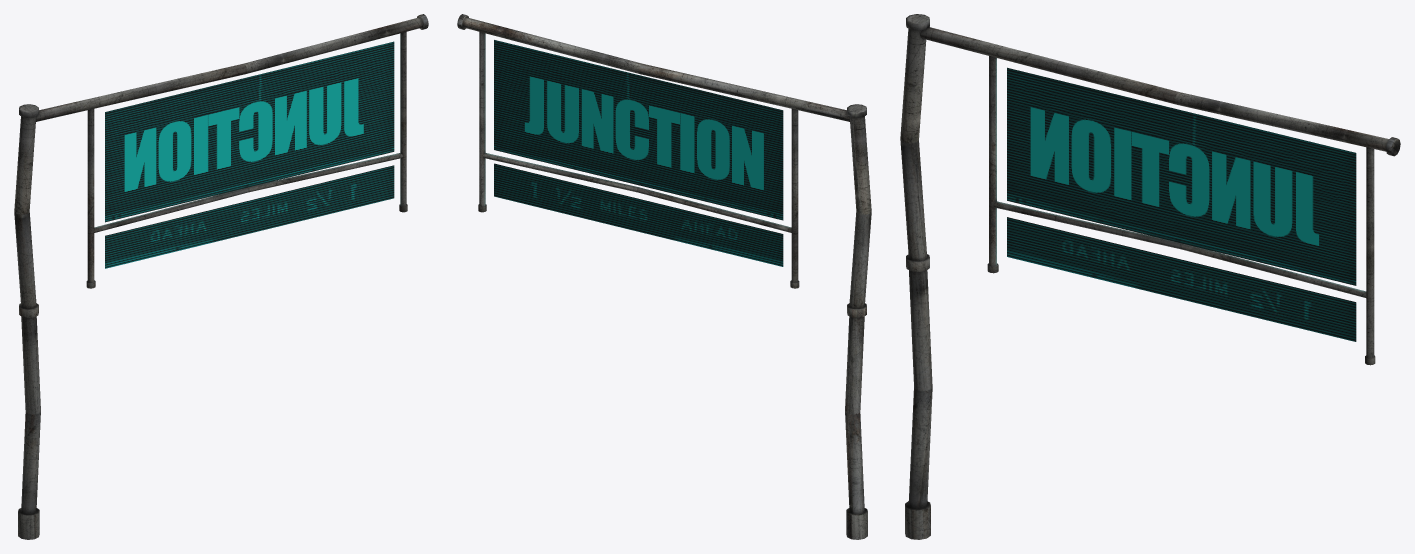
File: Traffic Poll.fbx
3 renders of one model, left to right at view 1: azimuth 30°, elevation 25°; view 2: azimuth 150°, elevation 25°; view 3: azimuth 330°, elevation 25°, orthographic. The views are drawn at different scales.
Parts seen in each view (by area): view 1: Cylinder_003; view 2: Cylinder_003; view 3: Cylinder_003.
Part boxes in pixels (x1,y1,x2,y2): Cylinder_003: (14, 14, 428, 539); Cylinder_003: (457, 14, 871, 539); Cylinder_003: (900, 14, 1400, 539).
Bounding box in the file's own units: 6.32 × 6.3 × 0.2956.
